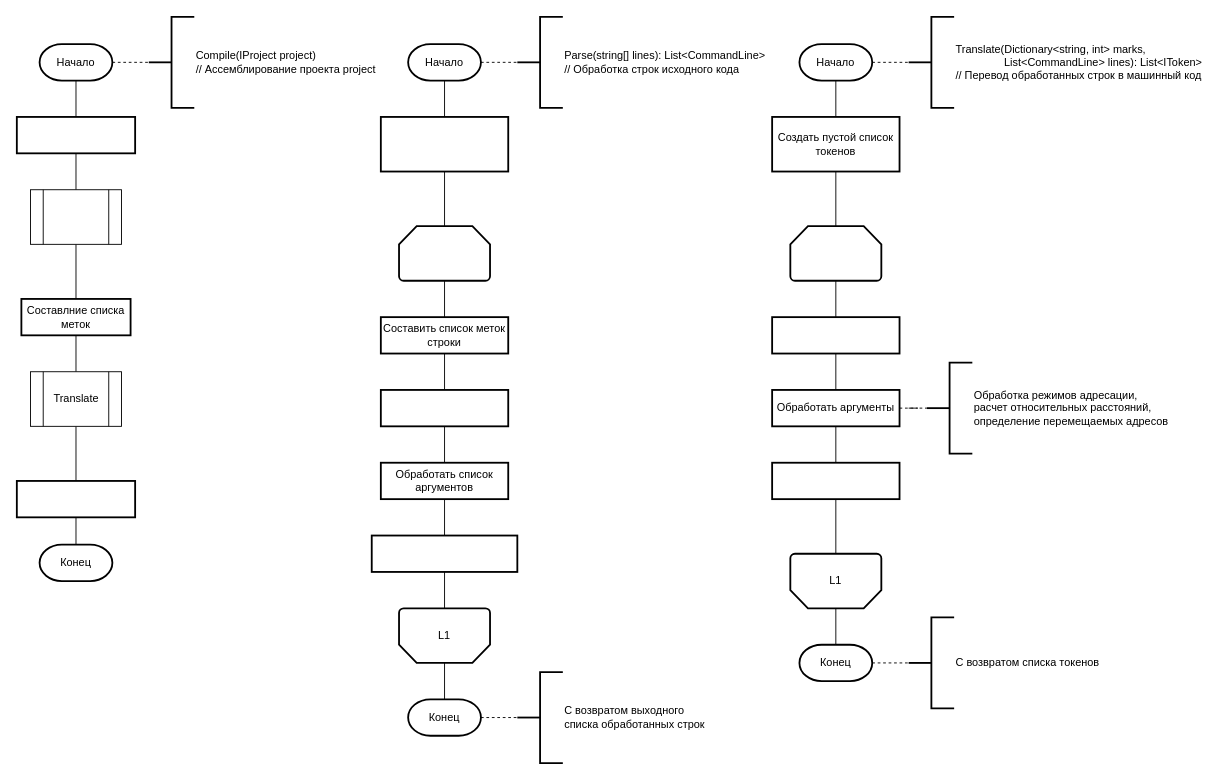
Some shapes in this 1218 by 779 pixel diagram are drawn without their labels. Each missing label, with the centre of its shape:
L1 Для всех строк: (444,253)
L1 Для всех строк из lines: (835,253)
Parse: (75,216)
Добавить обработанную строку в выходной список: (444,553)
Добавить токен в список токенов: (835,480)
Запись токенов в объектный файл: (75,499)
Обработать мнемонику команды: (444,408)
Перевести в машинный код: (835,335)
Создать выходной пустой список обработанных строк: (444,144)
Чтение файла project.Executable: (75,135)
